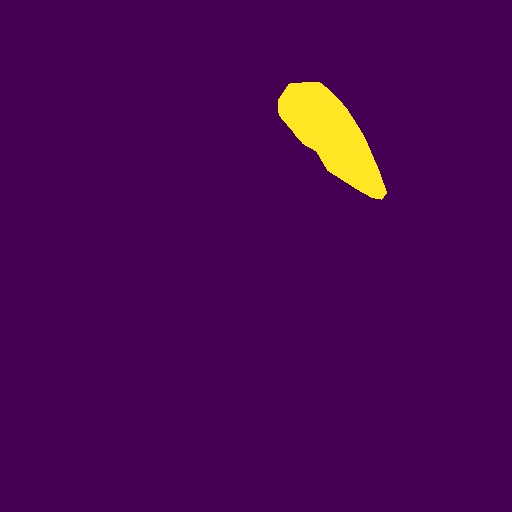Gliomia_tumour: (278, 82, 387, 200)
